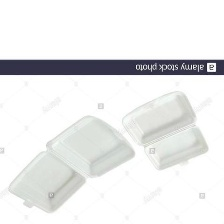foam_box: (3, 111, 139, 217), (118, 88, 212, 174)
